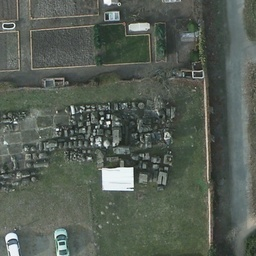car: (53, 229, 70, 256), (4, 231, 20, 256)
